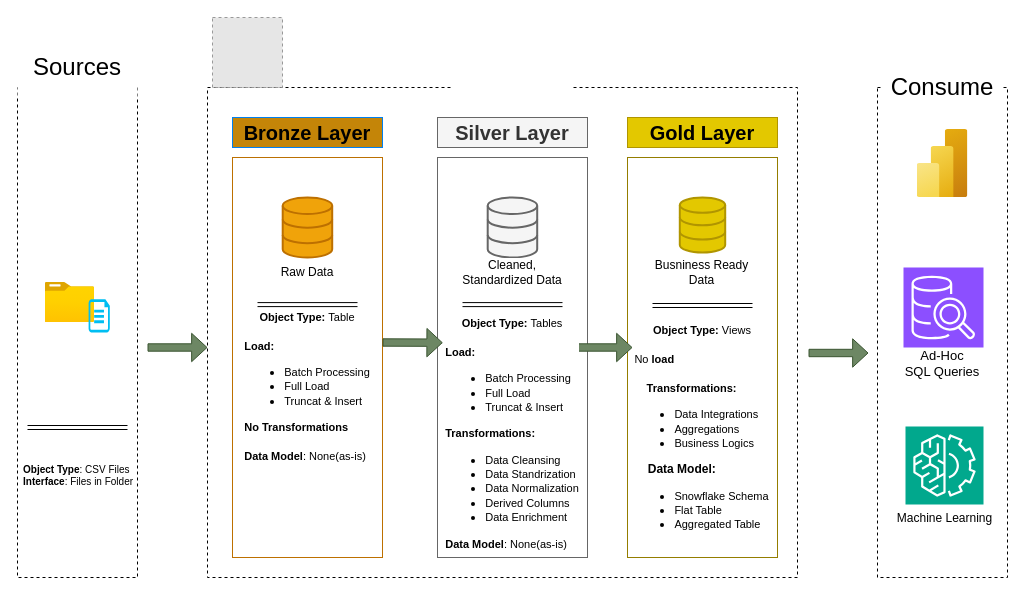
This 1025x595 diagram has some shape labels left out. Grey dashed boxes stand in for pictures. The shapes that lost their labels are listed below. From the top down, each one's centre as x and y in pixels, then its label:
At (x=512, y=72): "Data Warehouse".
At (x=942, y=163): "BI & Reporting".
At (x=69, y=302): "CSV files".
